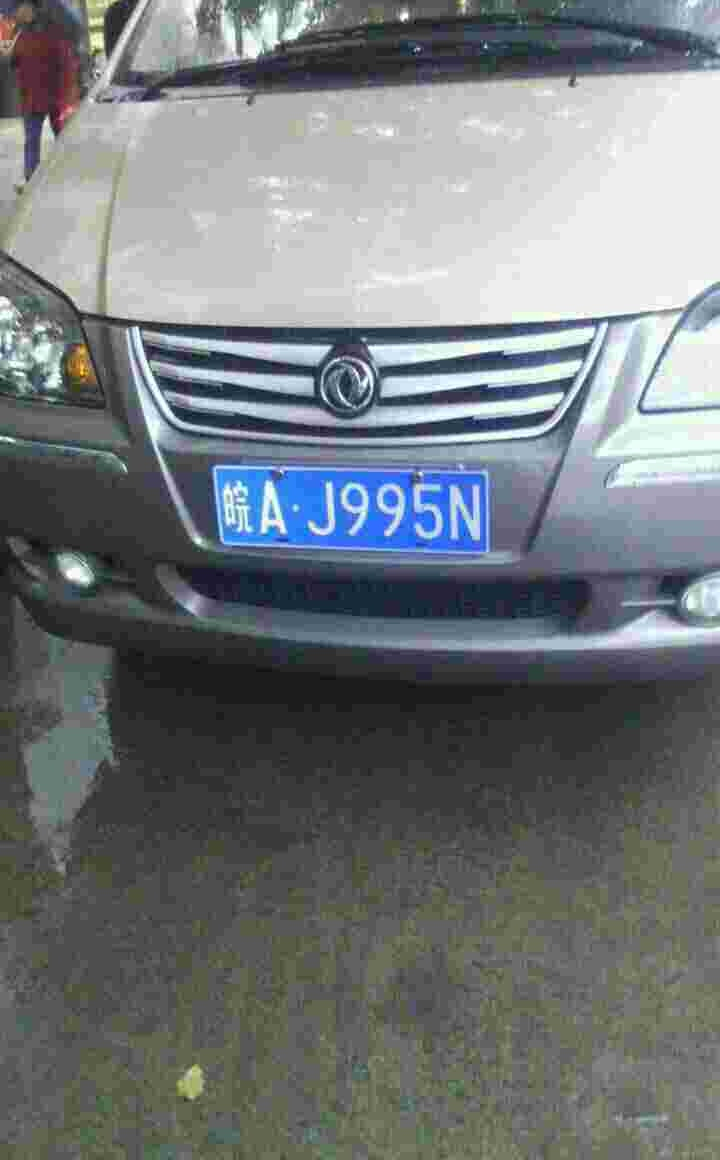license_plate: (223, 461, 488, 558)
